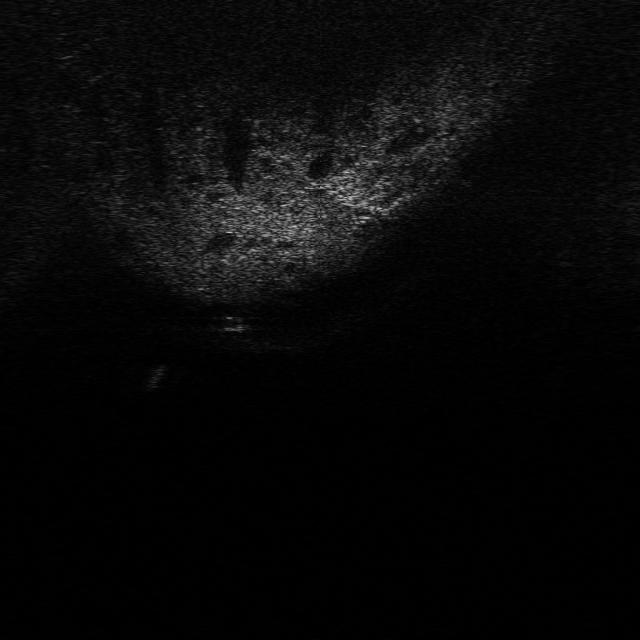cube: (210, 313, 250, 332)
cylinder: (140, 362, 168, 390)
